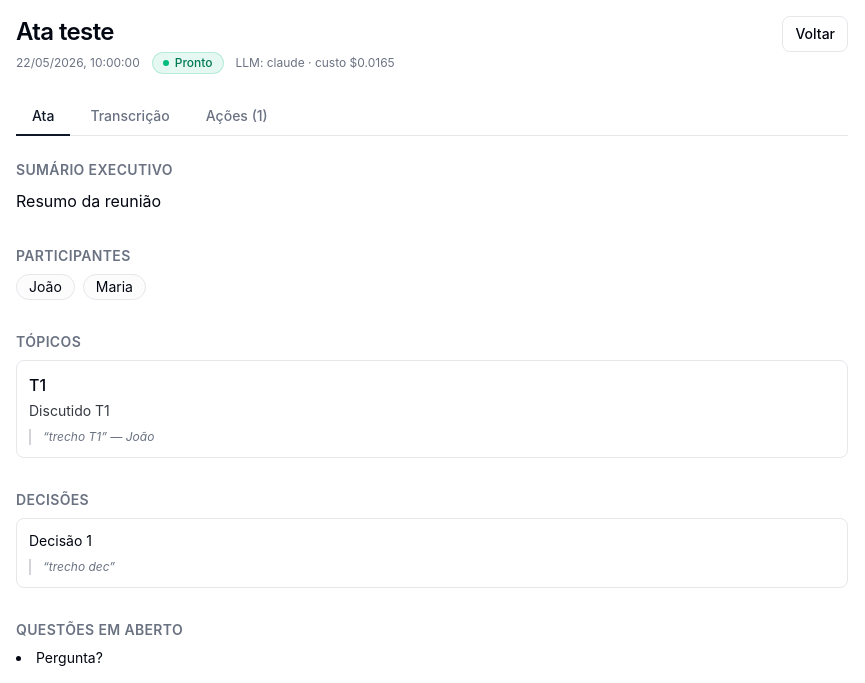
Test: MeetingDetailPage › aba Transcrição mostra segments
Expected: the heading "Ata teste" is shown, [16,17,114,46]
Step 1. Click the button "Transcrição" → {"x": 130, "y": 117}, box [74,98,186,136]
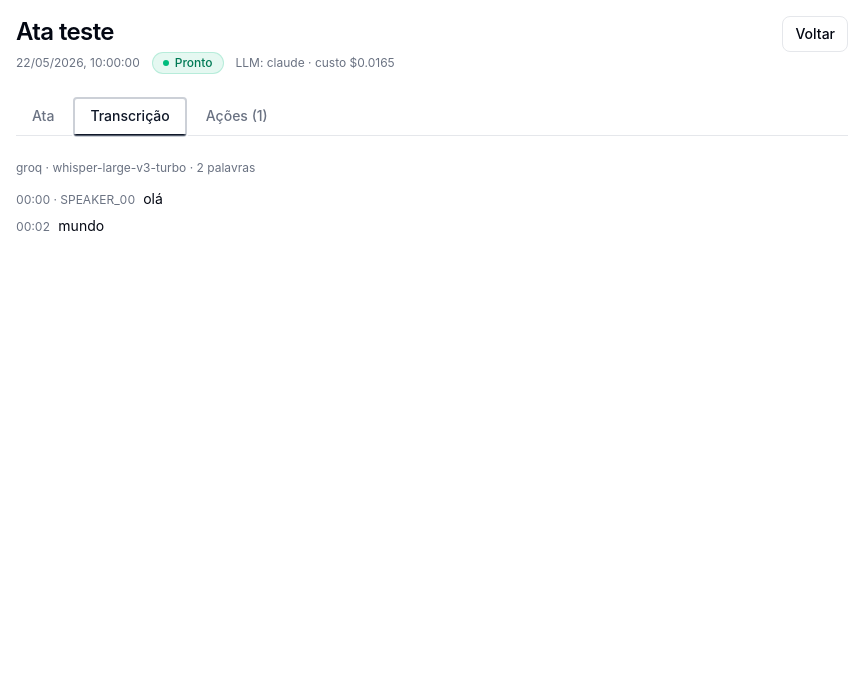
Now the list item "00:00 · SPEAKER_00olá" is shown, box [16,190,163,207]
Now the list item "00:02mundo" is shown, box [16,217,104,234]
